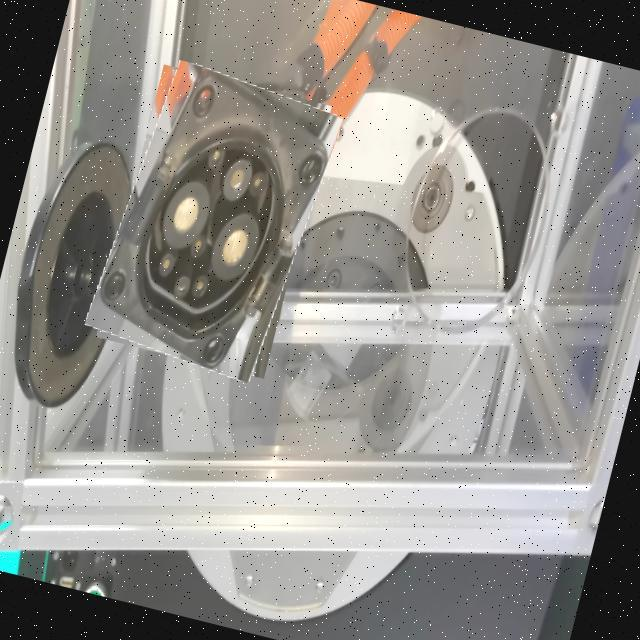GB-T: (101, 110, 325, 340)
